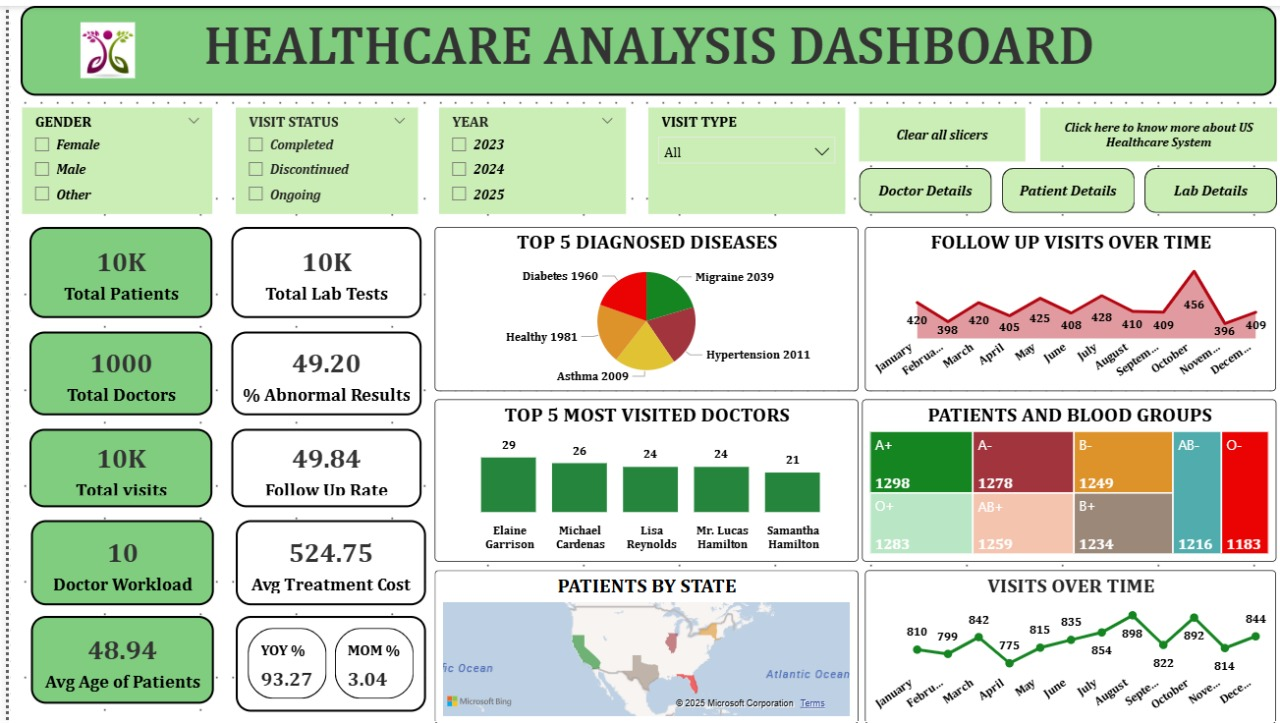

The dashboard page shown, as its layout file describes it:
{"tool":"powerbi","page":{"name":"Dashboard","canvas":[1280,720],"ordinal":0},"visuals":[{"type":"lineChart","title":"VISITS OVER TIME","fields":{"Category":["Visit.Visit Date.Variation.Date Hierarchy.Month"],"Y":["CountNonNull(Visit.Visit ID)"]},"box":[858.8,566,411.9,154],"z":0},{"type":"filledMap","title":"PATIENTS BY STATE","fields":{"Category":["Patient.State"],"Y":["Count(Patient.Patient ID)"],"Series":["Patient.State"]},"box":[427.2,566,424.5,154],"z":1000},{"type":"card","fields":{"Values":["Patient.Total Patients"]},"box":[20.6,221.2,183.6,91.3],"z":2000},{"type":"card","fields":{"Values":["Doctor.Total Doctors"]},"box":[20.6,326,183.6,84.2],"z":3000},{"type":"card","fields":{"Values":["Visit.Total visits"]},"box":[20.6,423.6,183.6,78.8],"z":4000},{"type":"card","fields":{"Values":["Doctor.Doctor Workload"]},"box":[21.5,514.9,183.6,85.1],"z":5000},{"type":"card","fields":{"Values":["Patient.Average Age"]},"box":[21.5,611.6,183.6,87.8],"z":6000},{"type":"card","fields":{"Values":["Treatments.Avg Treatment Cost"]},"box":[227.5,514.9,190.7,85.1],"z":7000},{"type":"pieChart","title":"TOP 5 DIAGNOSED DISEASES","fields":{"Category":["Visit.Diagnosis"],"Y":["CountNonNull(Visit.Patient ID)"]},"box":[427.2,222.1,424.5,164.8],"z":8000},{"type":"treemap","title":"PATIENTS AND BLOOD GROUPS","fields":{"Group":["Patient.Blood Type"],"Values":["CountNonNull(Patient.Patient ID)"]},"box":[855.2,394.9,415.5,163],"z":9000},{"type":"textbox","box":[11.5,0,1258.9,90.1],"z":10000},{"type":"card","fields":{"Values":["Lab result.Total Lab Tests"]},"box":[223,221.2,190.7,91.3],"z":11000},{"type":"card","fields":{"Values":["Lab result.% Abnormal Results"]},"box":[223,326,190.7,84.2],"z":12000},{"type":"card","fields":{"Values":["Visit.% Follow Up Rate"]},"box":[223,423.6,190.7,78.8],"z":13000},{"type":"slicer","fields":{"Values":["Patient.Gender"]},"box":[13.4,102.1,190.7,106.6],"z":14000},{"type":"slicer","fields":{"Values":["Visit.Visit Date.Variation.Date Hierarchy.Year"]},"box":[431.6,102.1,187.2,106.6],"z":15000},{"type":"slicer","fields":{"Values":["Treatments.Status"]},"box":[227.5,102.1,182.7,106.6],"z":16000},{"type":"image","box":[67.1,4.8,65.1,79.5],"z":17000},{"type":"actionButton","box":[851.6,102.1,166.6,53.7],"z":18000},{"type":"actionButton","box":[1033.4,102.1,237.3,53.7],"z":19000},{"type":"slicer","fields":{"Values":["Visit.Visit Type"]},"box":[641.2,102.1,197,106.6],"z":20000},{"type":"pageNavigator","box":[851.6,163,419.1,45.7],"z":21000},{"type":"columnChart","title":"TOP 5 MOST VISITED DOCTORS","fields":{"Category":["Doctor.Doctor Name"],"Y":["CountNonNull(Visit.Visit ID)"]},"box":[427.2,394.9,424.5,163],"z":22000},{"type":"stackedAreaChart","title":"FOLLOW UP VISITS OVER TIME","fields":{"Category":["Visit.Visit Date.Variation.Date Hierarchy.Month"],"Y":["Visit.Follow Up Patients"]},"box":[858.8,222.1,411.9,164.8],"z":23000},{"type":"cardVisual","fields":{"Data":["Visit.YOY %","Visit.MOM %"]},"box":[227.5,611.6,190.7,95.8],"z":24000}]}

Visuals, with their boxes in screenshot pixels (x1, y1, x2, y2), scaled from the page's 1280x720 canvas onto the 1280x723 screenshot:
"VISITS OVER TIME" lineChart: crop(859, 568, 1271, 722)
"PATIENTS BY STATE" filledMap: crop(427, 568, 852, 722)
card - Patient.Total Patients: crop(21, 222, 204, 314)
card - Doctor.Total Doctors: crop(21, 327, 204, 412)
card - Visit.Total visits: crop(21, 425, 204, 504)
card - Doctor.Doctor Workload: crop(22, 517, 205, 602)
card - Patient.Average Age: crop(22, 614, 205, 702)
card - Treatments.Avg Treatment Cost: crop(228, 517, 418, 602)
"TOP 5 DIAGNOSED DISEASES" pieChart: crop(427, 223, 852, 389)
"PATIENTS AND BLOOD GROUPS" treemap: crop(855, 397, 1271, 560)
textbox: crop(12, 0, 1270, 90)
card - Lab result.Total Lab Tests: crop(223, 222, 414, 314)
card - Lab result.% Abnormal Results: crop(223, 327, 414, 412)
card - Visit.% Follow Up Rate: crop(223, 425, 414, 504)
slicer - Patient.Gender: crop(13, 103, 204, 210)
slicer - Visit.Visit Date.Variation.Date Hierarchy.Year: crop(432, 103, 619, 210)
slicer - Treatments.Status: crop(228, 103, 410, 210)
image: crop(67, 5, 132, 85)
actionButton: crop(852, 103, 1018, 156)
actionButton: crop(1033, 103, 1271, 156)
slicer - Visit.Visit Type: crop(641, 103, 838, 210)
pageNavigator: crop(852, 164, 1271, 210)
"TOP 5 MOST VISITED DOCTORS" columnChart: crop(427, 397, 852, 560)
"FOLLOW UP VISITS OVER TIME" stackedAreaChart: crop(859, 223, 1271, 389)
cardVisual - Visit.YOY % x Visit.MOM %: crop(228, 614, 418, 710)
